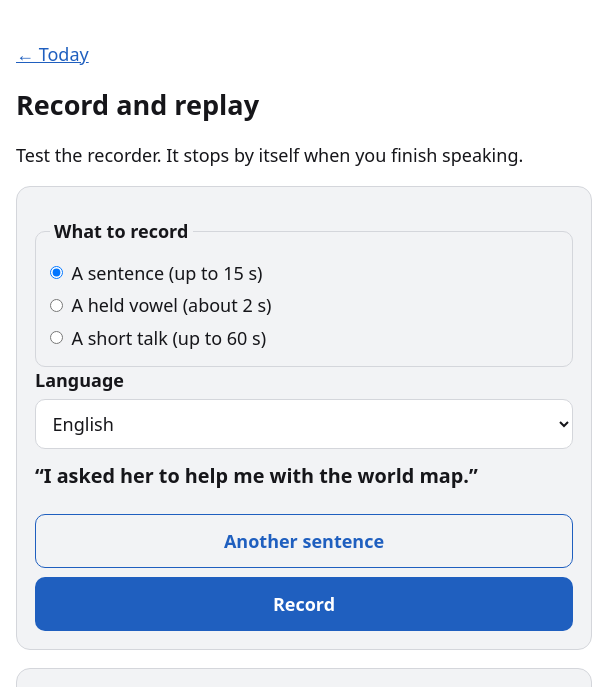
Test: record screen › DistanceCheck_FarOff_AsksToAdjust
Click the button "Record".
click(304, 604)  # box [35,577,573,631]
(page scrolled)
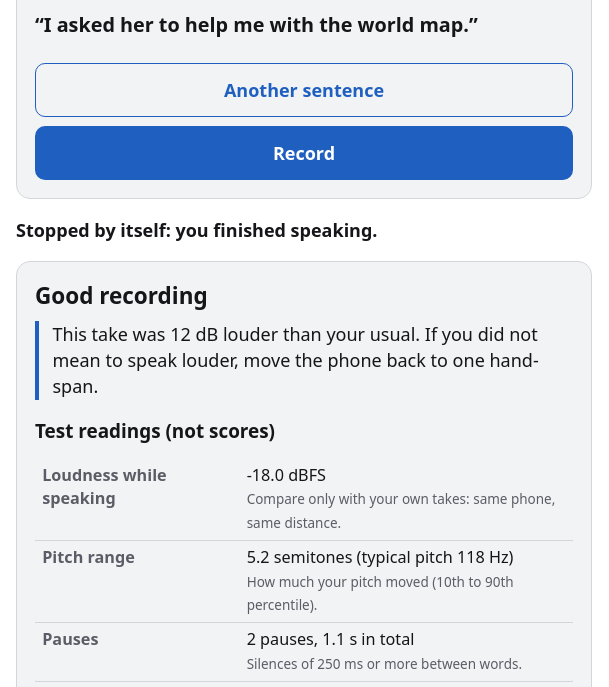
Now the text "12 dB louder than your usual" is shown, box [52,322,539,398]
